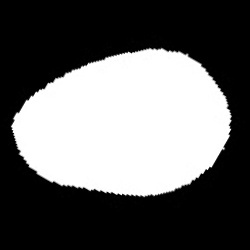spot: (12, 47, 231, 197)
